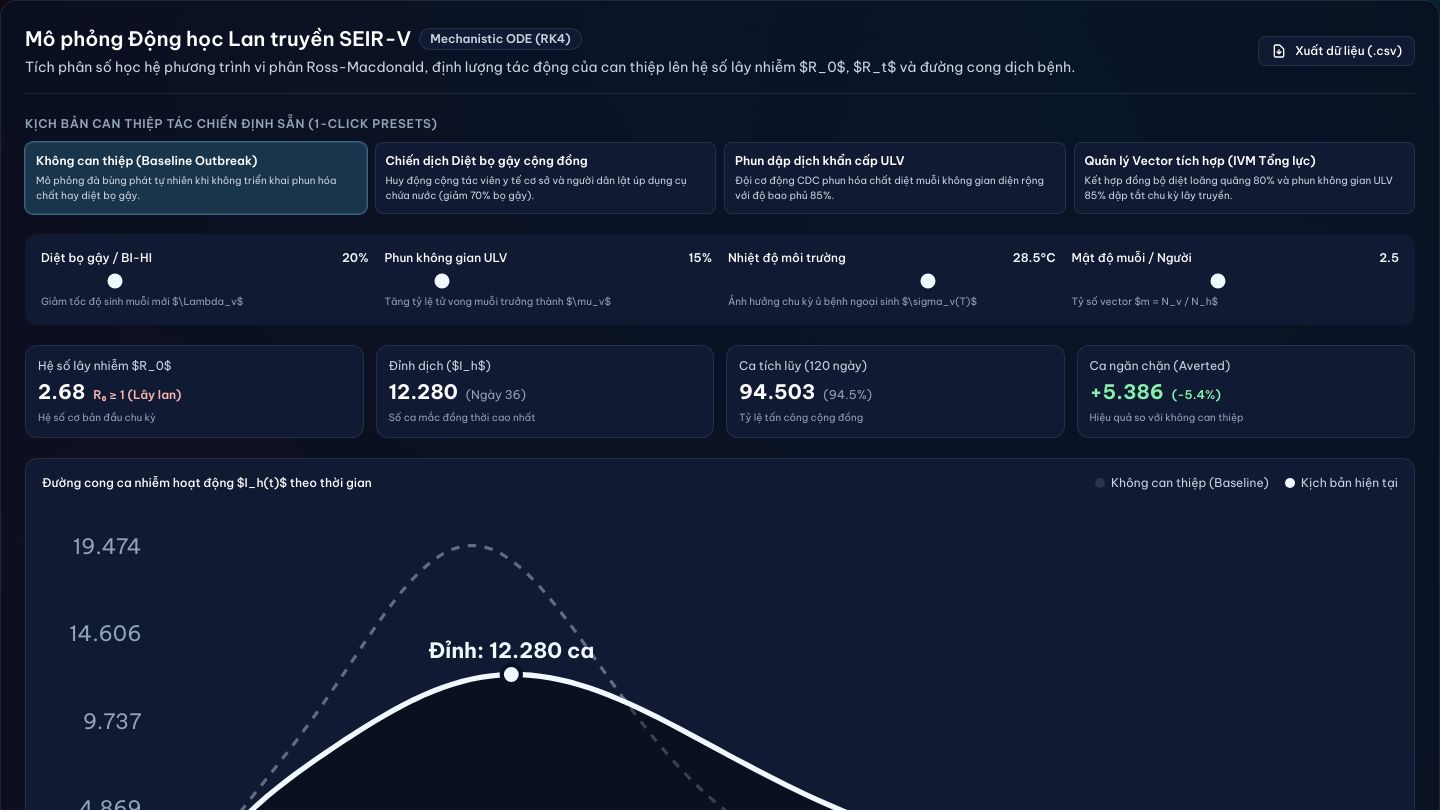
Scenario: SeirvSimulationPlayground Component › dynamically recalculates metrics when slider values change
The image size is (1440, 810).
Set the slider labelled "Nhiệt độ môi trường" to "32" at [993, 281], box [728,278,1056,284]
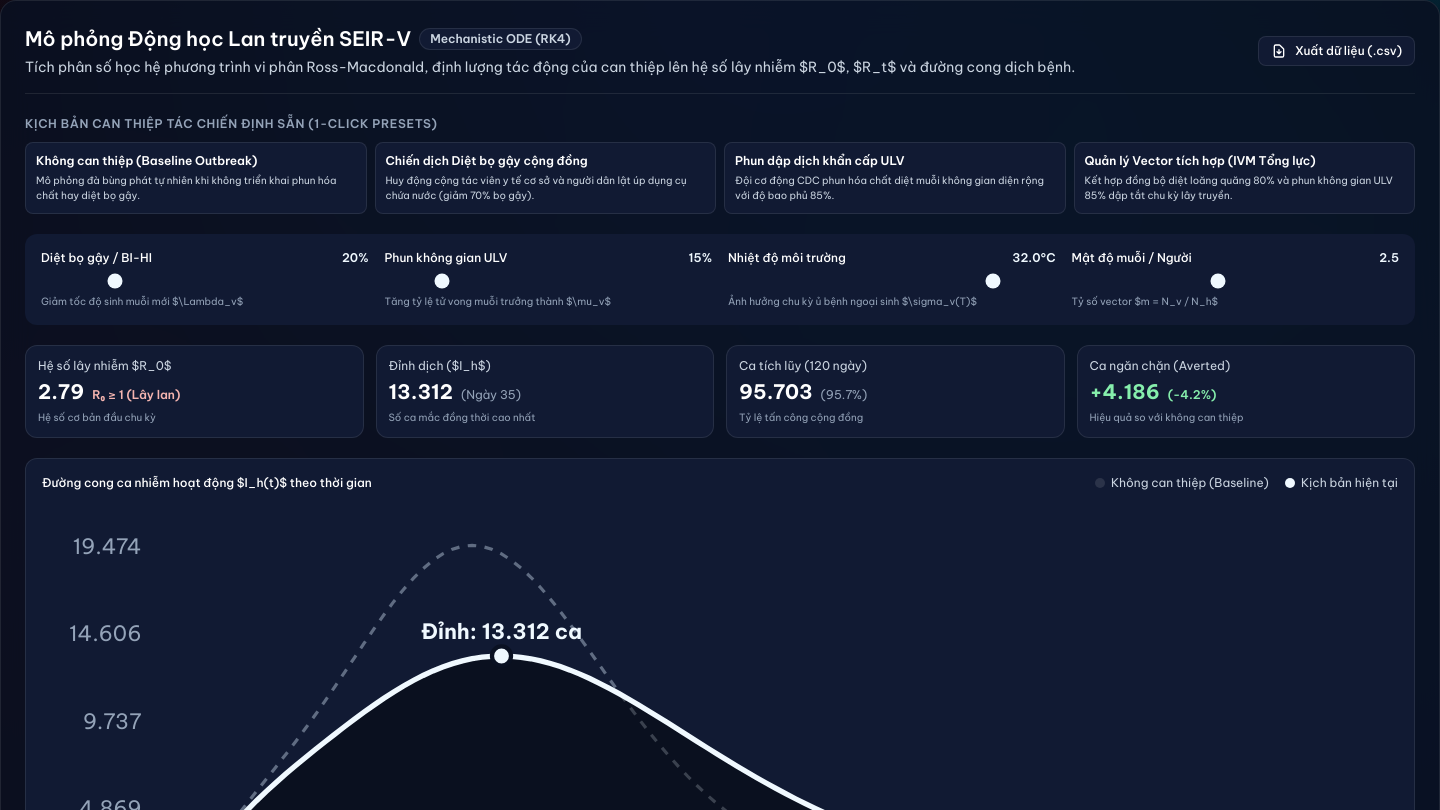
expect the text "32.0°C" is shown: met, box [1012,250,1056,266]
